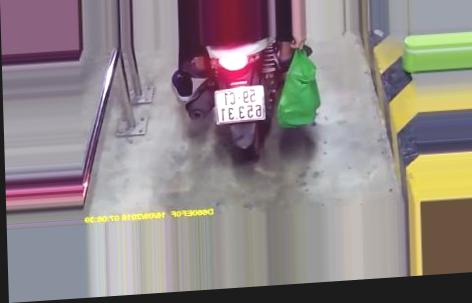License_Plate: (210, 82, 271, 132)
